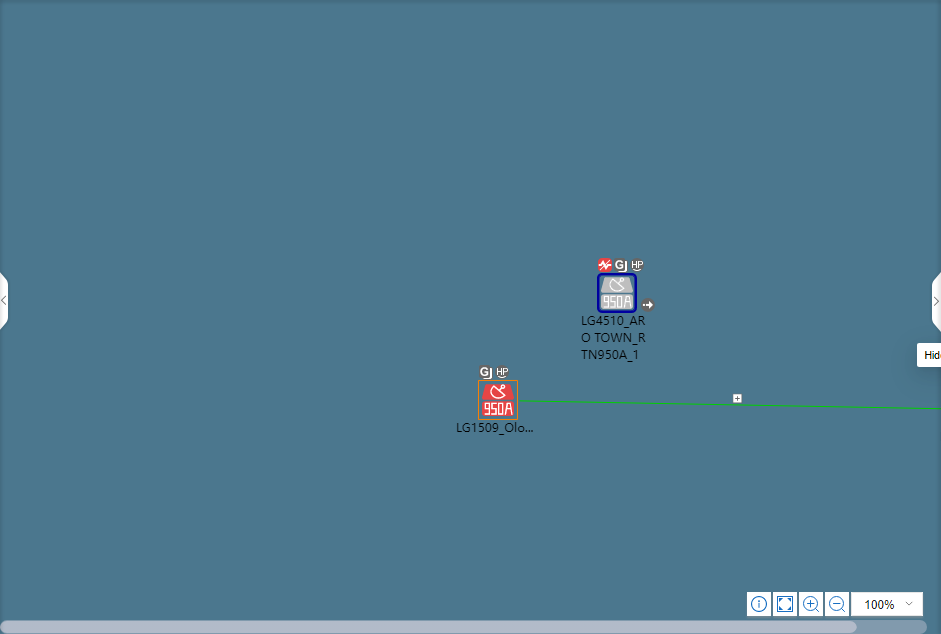Link_Green: (519, 399, 941, 412)
RTN_Gray: (599, 276, 634, 311)
RTN_Red: (481, 384, 514, 418)
